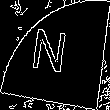N_S: (34, 27, 76, 83)
